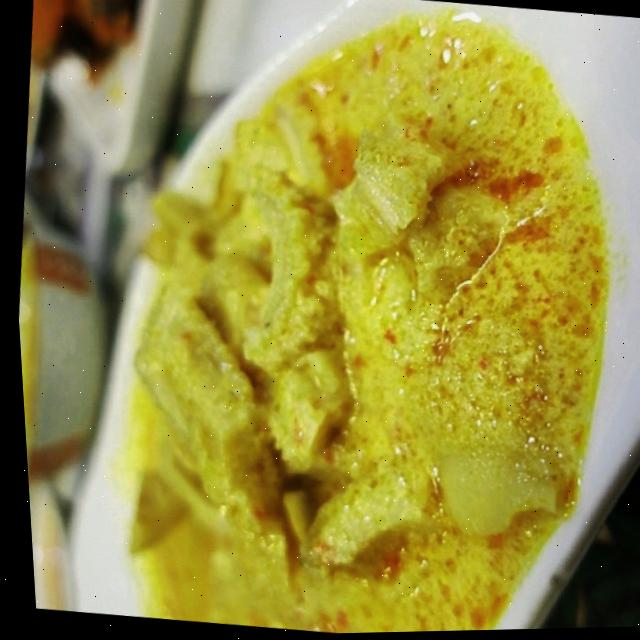熟制海鲜: (24, 0, 640, 640)
